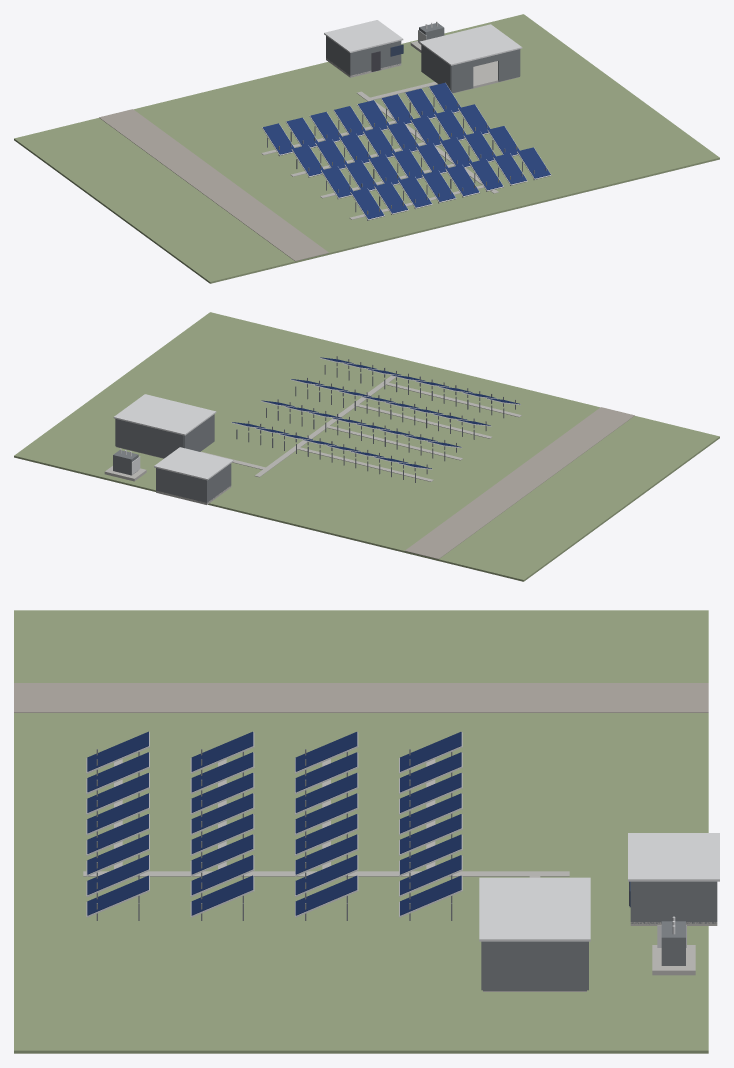
Rendered from solar_farm.glb.
3 views of the same model, one above another, from view 1: azimuth 30°, elevation 25°; view 2: azimuth 150°, elevation 25°; view 3: azimuth 270°, elevation 25° (orthographic). The views are drawn at different scales.
Parts seen in each view (by area): view 1: Ground, AccessRoad, InverterStation_Roof, ControlRoom_Shell, ControlRoom_Roof, InverterStation_Wall_Left, InverterStation_Wall_FrontL, InverterStation_Wall_FrontR, InverterStation_Floor, SolarPanel_01_04, SolarPanel_01_08, SolarPanel_01_03 (+29 smaller); view 2: Ground, AccessRoad, InverterStation_Roof, ControlRoom_Shell, InverterStation_Wall_Back, ControlRoom_Roof, InverterStation_Wall_Left, CableTrench_Main, CableTrench_Row_01, CableTrench_Row_02, CableTrench_Row_03, CableTrench_Row_04 (+1 smaller); view 3: Ground, AccessRoad, InverterStation_Roof, InverterStation_Wall_Right, ControlRoom_Roof, ControlRoom_Shell, CableTrench_Main, Transformer_Tank, SolarPanel_02_01, SolarPanel_02_02, SolarPanel_02_03, SolarPanel_02_04 (+29 smaller).
Boxes of the visible parts, x1=… form: Ground: x1=14, y1=14, x2=719, y2=283; AccessRoad: x1=99, y1=109, x2=328, y2=261; InverterStation_Roof: x1=419, y1=24, x2=522, y2=65; ControlRoom_Shell: x1=326, y1=36, x2=401, y2=76; ControlRoom_Roof: x1=324, y1=20, x2=403, y2=52; InverterStation_Wall_Left: x1=421, y1=44, x2=451, y2=91; InverterStation_Wall_FrontL: x1=451, y1=60, x2=473, y2=93; InverterStation_Wall_FrontR: x1=498, y1=49, x2=519, y2=81; InverterStation_Floor: x1=452, y1=61, x2=519, y2=93; SolarPanel_01_04: x1=422, y1=170, x2=455, y2=201; SolarPanel_01_08: x1=517, y1=147, x2=550, y2=178; SolarPanel_01_03: x1=398, y1=176, x2=431, y2=207; Ground: x1=14, y1=312, x2=719, y2=581; AccessRoad: x1=405, y1=407, x2=634, y2=559; InverterStation_Roof: x1=113, y1=394, x2=216, y2=435; ControlRoom_Shell: x1=156, y1=463, x2=231, y2=503; InverterStation_Wall_Back: x1=115, y1=419, x2=184, y2=458; ControlRoom_Roof: x1=154, y1=447, x2=233, y2=480; InverterStation_Wall_Left: x1=184, y1=414, x2=214, y2=451; CableTrench_Main: x1=255, y1=376, x2=395, y2=477; CableTrench_Row_01: x1=383, y1=382, x2=521, y2=417; CableTrench_Row_02: x1=354, y1=403, x2=491, y2=438; CableTrench_Row_03: x1=325, y1=425, x2=462, y2=460; CableTrench_Row_04: x1=295, y1=446, x2=433, y2=481; Ground: x1=14, y1=610, x2=708, y2=1053; AccessRoad: x1=14, y1=683, x2=708, y2=712; InverterStation_Roof: x1=479, y1=877, x2=590, y2=941; InverterStation_Wall_Right: x1=483, y1=941, x2=586, y2=990; ControlRoom_Roof: x1=628, y1=833, x2=719, y2=881; ControlRoom_Shell: x1=630, y1=881, x2=717, y2=924; CableTrench_Main: x1=83, y1=871, x2=569, y2=876; Transformer_Tank: x1=661, y1=921, x2=685, y2=965; SolarPanel_02_01: x1=191, y1=731, x2=253, y2=771; SolarPanel_02_02: x1=191, y1=752, x2=253, y2=792; SolarPanel_02_03: x1=191, y1=773, x2=253, y2=812; SolarPanel_02_04: x1=191, y1=793, x2=253, y2=833.
Size of the model in its own units: 60 by 3.77 by 40.65.
